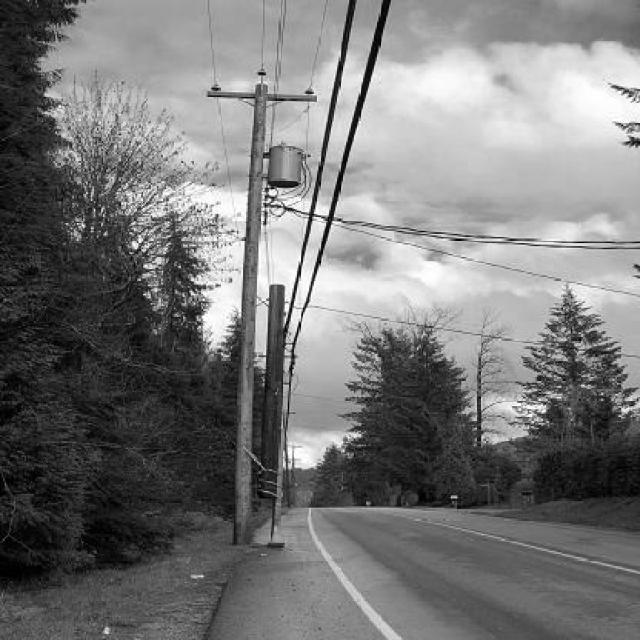Pole: (208, 70, 316, 544), (261, 285, 283, 468)
